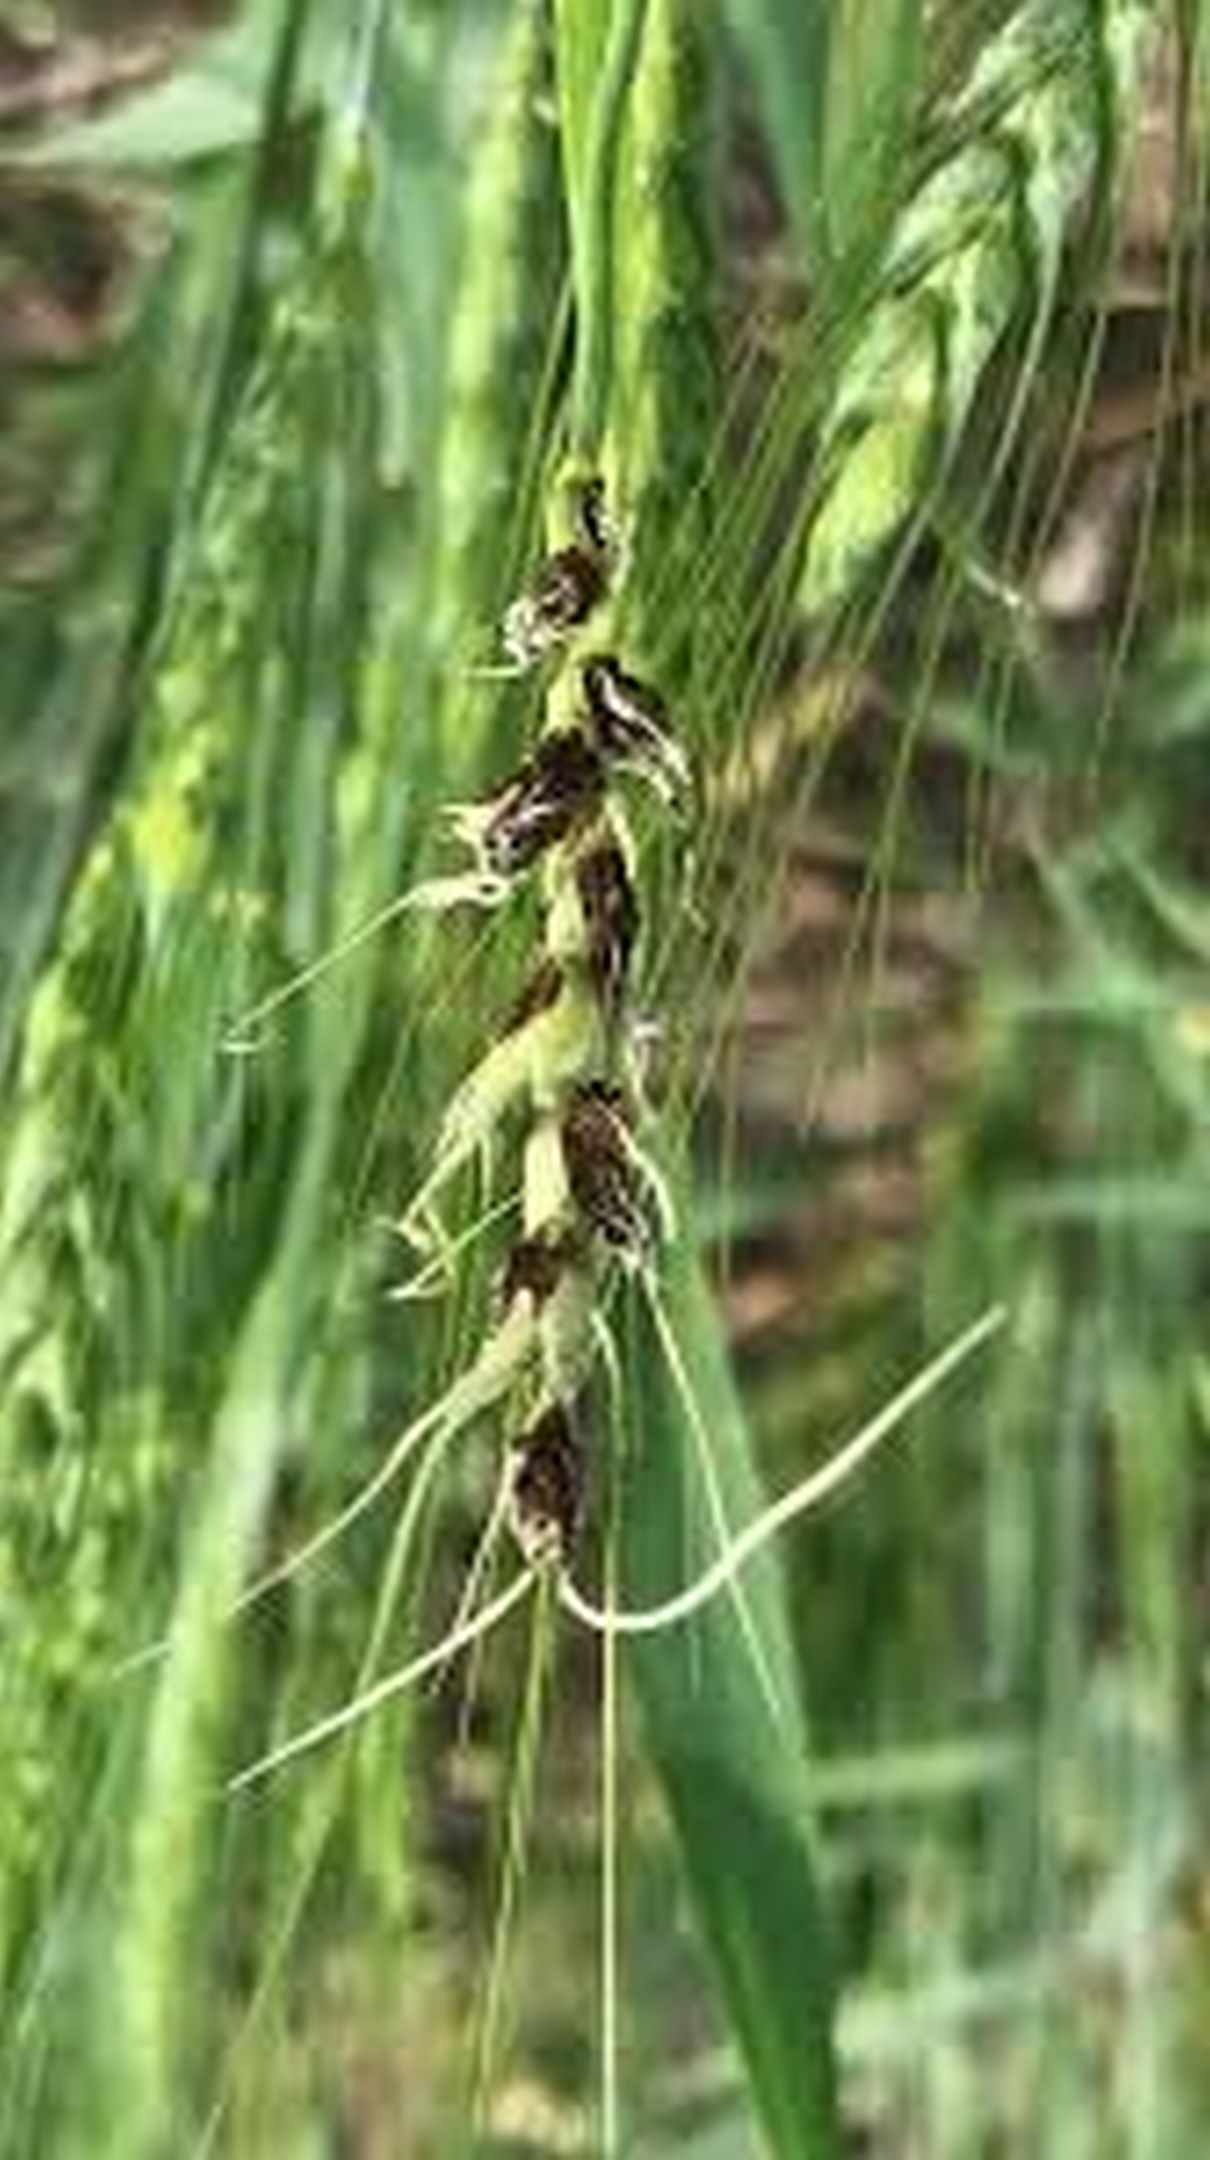Wheat Loose Smut: (394, 452, 692, 1621)
